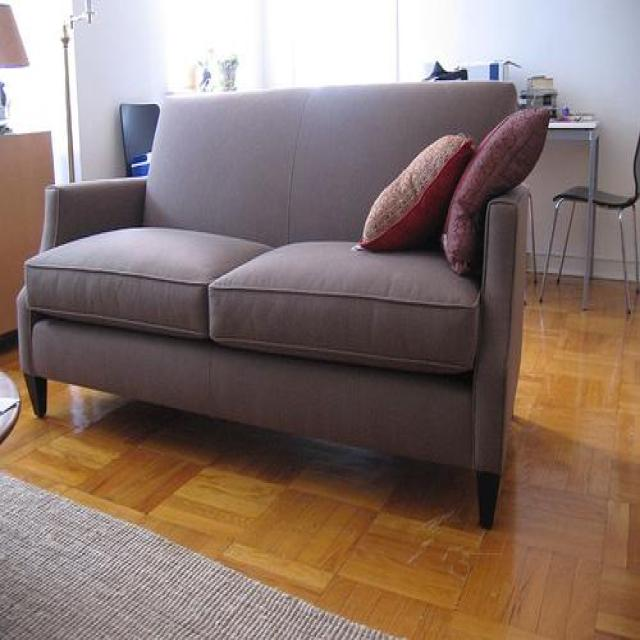sofa: (16, 74, 530, 532)
